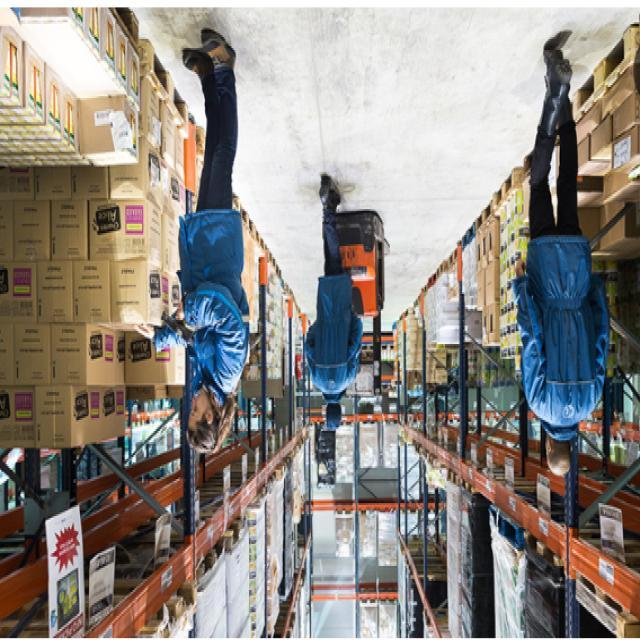boots: (531, 35, 582, 139), (179, 21, 241, 97), (311, 166, 343, 223)
